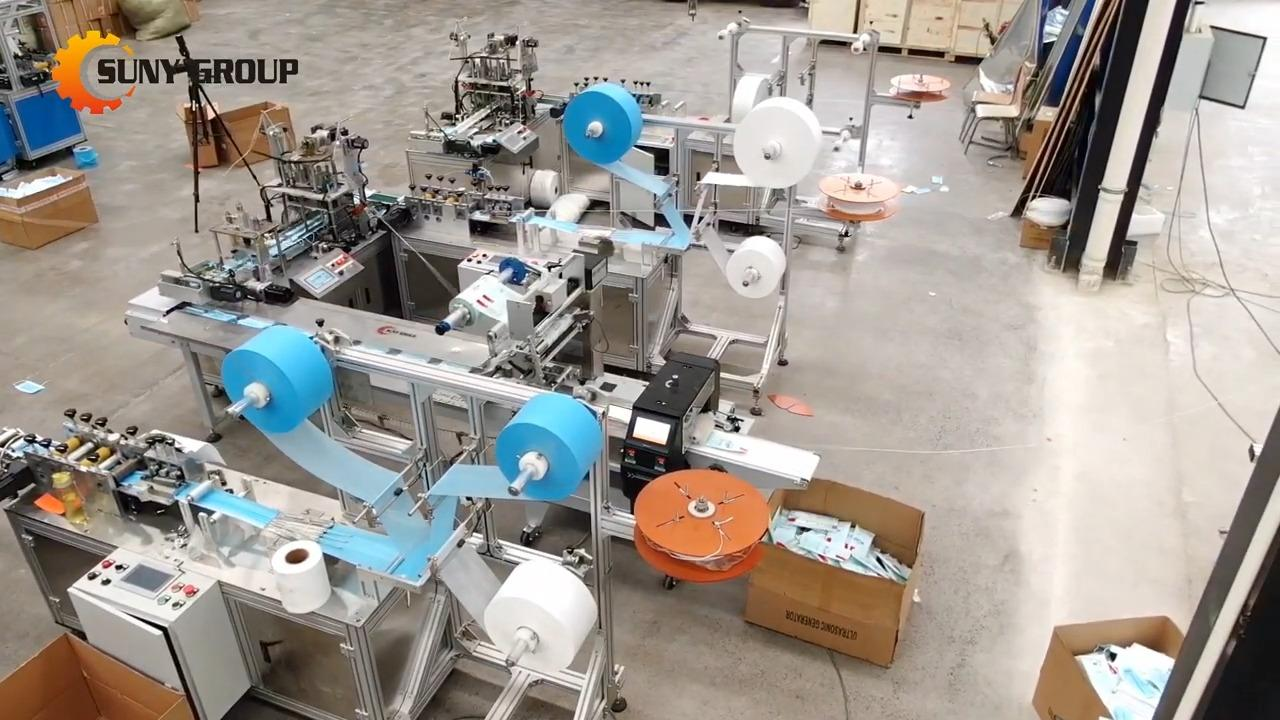mask: (203, 308, 238, 323), (237, 317, 273, 330)
